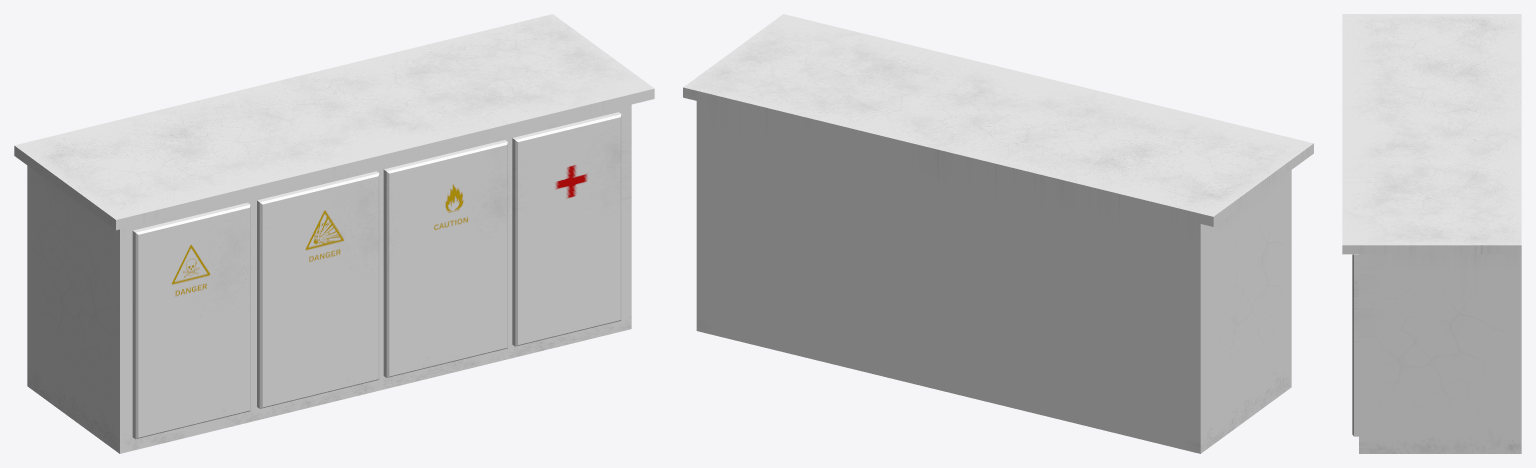
Rendered from lab_table.FBX.
3 views of the same model, side by side, from view 1: azimuth 30°, elevation 25°; view 2: azimuth 150°, elevation 25°; view 3: azimuth 270°, elevation 25° (orthographic). The views are drawn at different scales.
Parts seen in each view (by area): view 1: lab_table; view 2: lab_table; view 3: lab_table.
Part boxes in pixels (bbox=[...]): lab_table: bbox=[14, 14, 654, 453]; lab_table: bbox=[683, 14, 1313, 453]; lab_table: bbox=[1342, 14, 1521, 453].
Size of the model in its own units: 4.89 by 2.11 by 1.6.
1 material, 1 textured.
